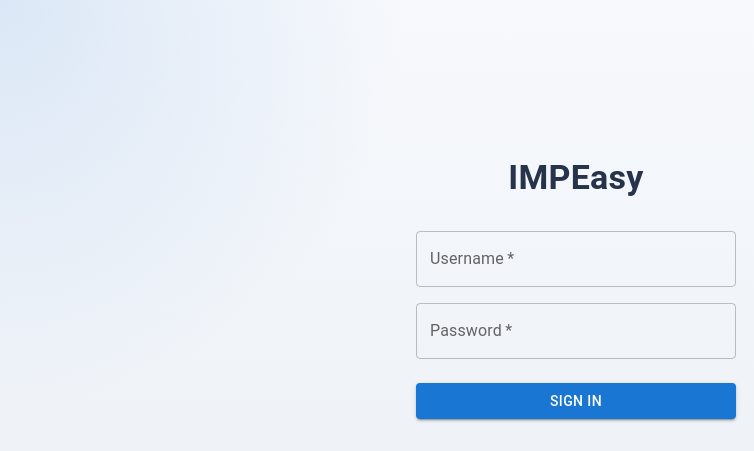
LoginPage › validates required credentials for sign-in
This screenshot has width=754, height=451.
Click the button "Sign in" at (576, 401), box top-left (416, 383), bottom-right (736, 419)
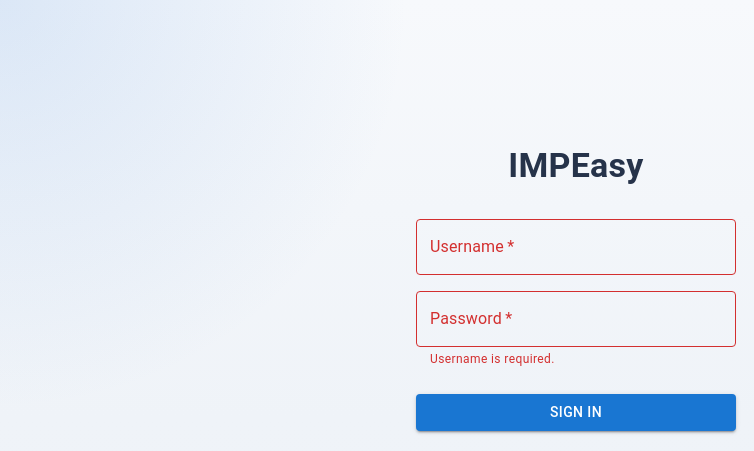
Expected: the text "Username is required." is shown, top-left (430, 352), bottom-right (555, 366)
